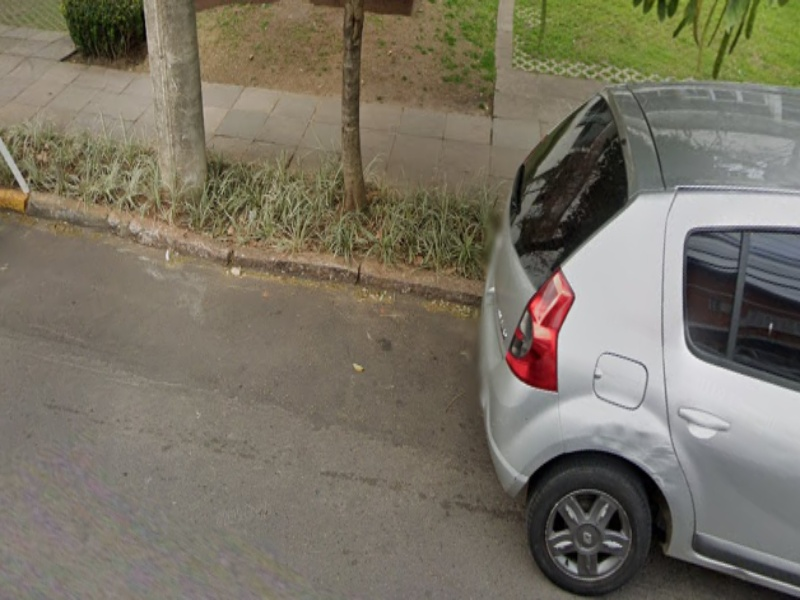v39: (7, 124, 468, 349)
